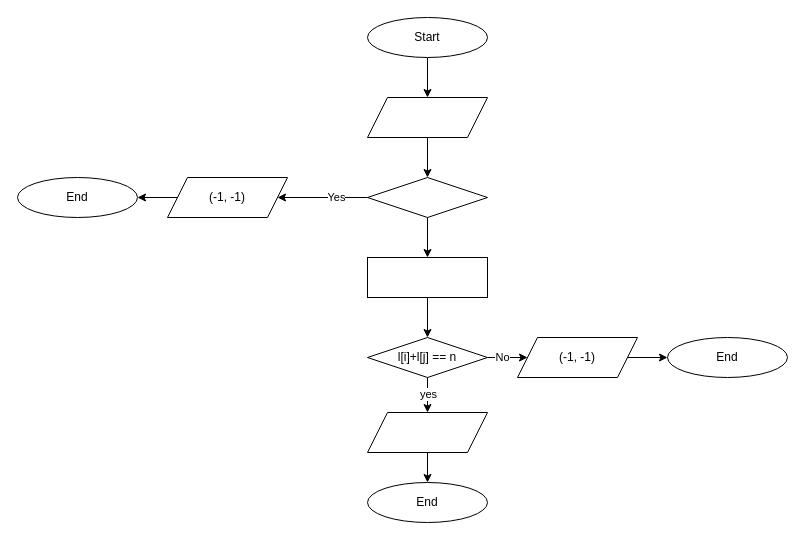
Some shapes in this 805 by 540 pixel diagram are drawn without their labels. The box of each missing label's shape, as (x1, y1, x2, y2) in pixels:
(i, j): (366, 412, 488, 452)
Iterate over the list with two indexes i and j: (366, 256, 488, 298)
l: list[int] n: int: (366, 96, 488, 138)
len(l) == 0: (366, 176, 488, 218)
